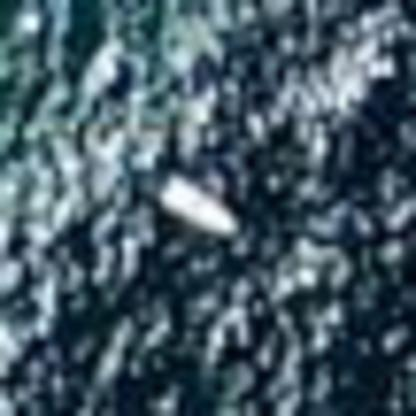ship: (149, 165, 246, 242)
